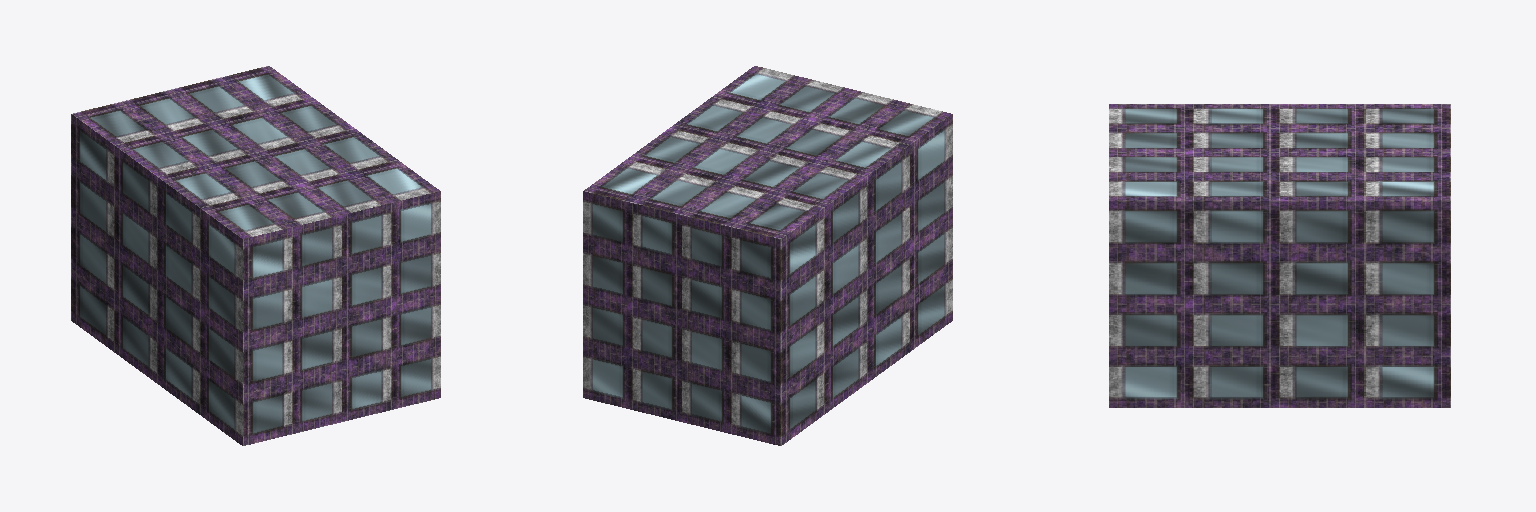
The picture shows the model from 3 angles: view 1: azimuth 30°, elevation 25°; view 2: azimuth 150°, elevation 25°; view 3: azimuth 270°, elevation 25°; orthographic projection.
Size of the model in its own units: 2 by 2 by 3.
1 materials, 1 textured.